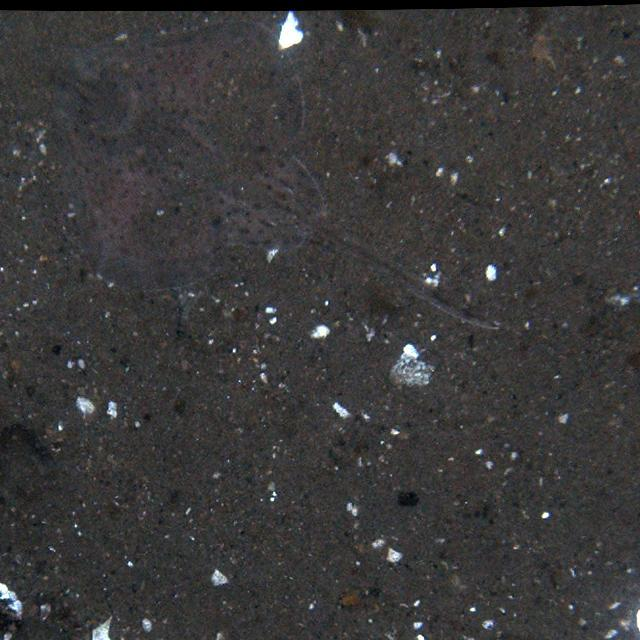skate: (31, 26, 507, 332)
